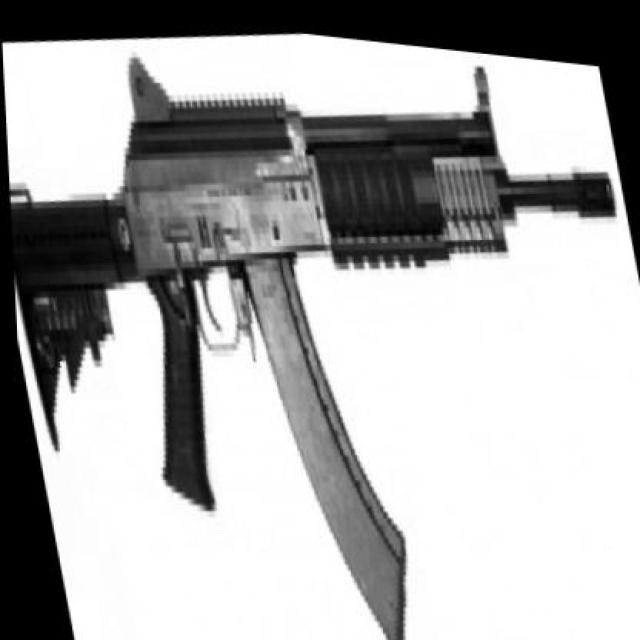weapon: (3, 56, 617, 639)
